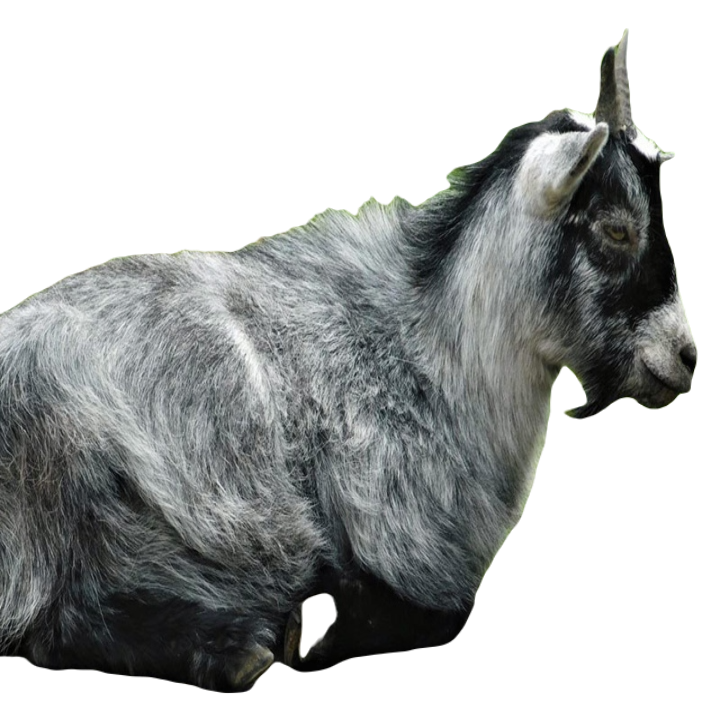Goat: (3, 36, 696, 697)
